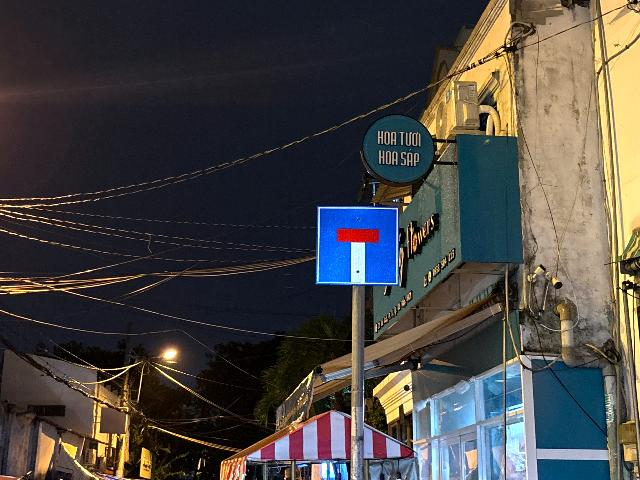duong-cut: (316, 205, 399, 286)
